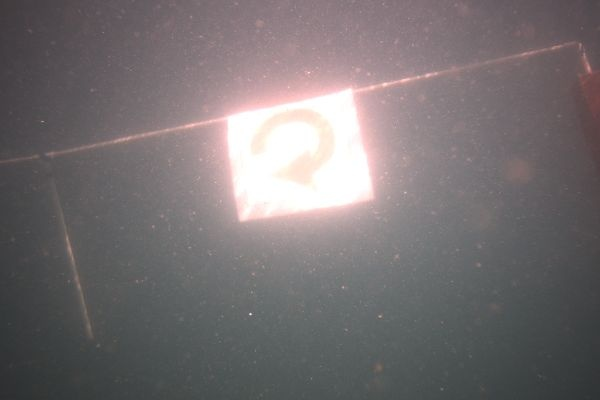gate: (0, 42, 600, 340)
gate_rouge: (228, 90, 372, 224)
